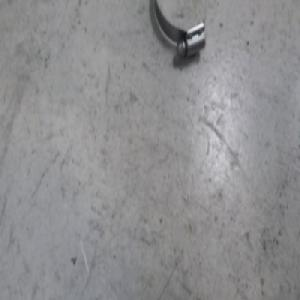AdjustableClamp: (154, 1, 207, 58)
